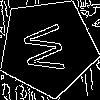W: (22, 22, 73, 75)
